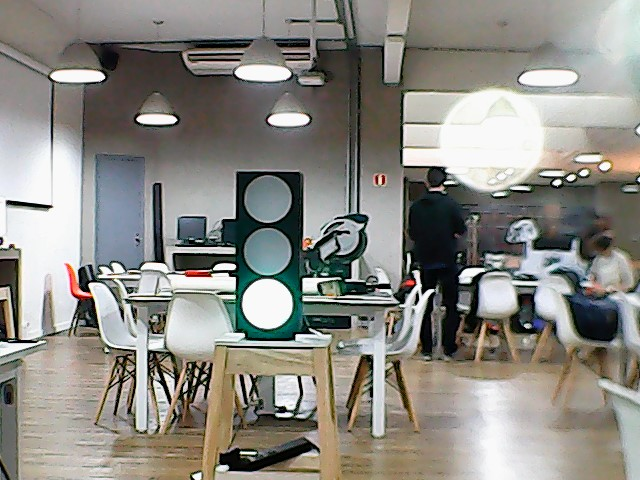verde: (233, 167, 307, 345)
